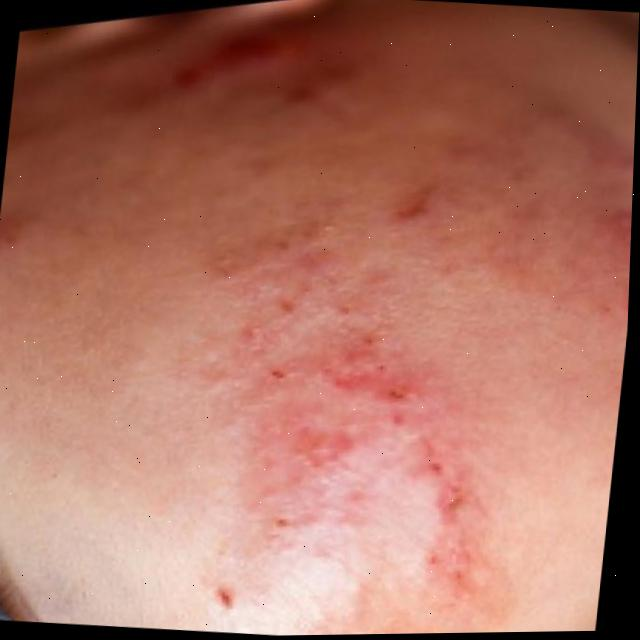Eczema: (221, 190, 523, 636)
